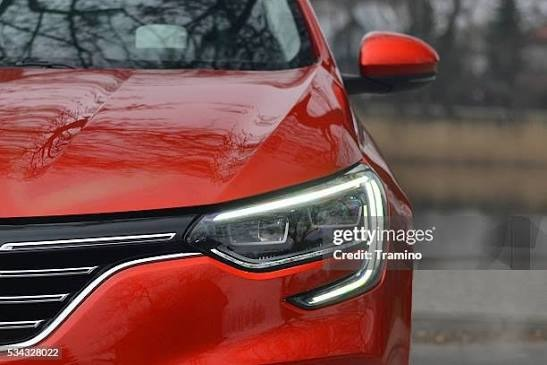car: (1, 7, 452, 362), (1, 71, 438, 360), (1, 3, 430, 260), (1, 3, 430, 237), (6, 167, 424, 365), (356, 34, 439, 88)
